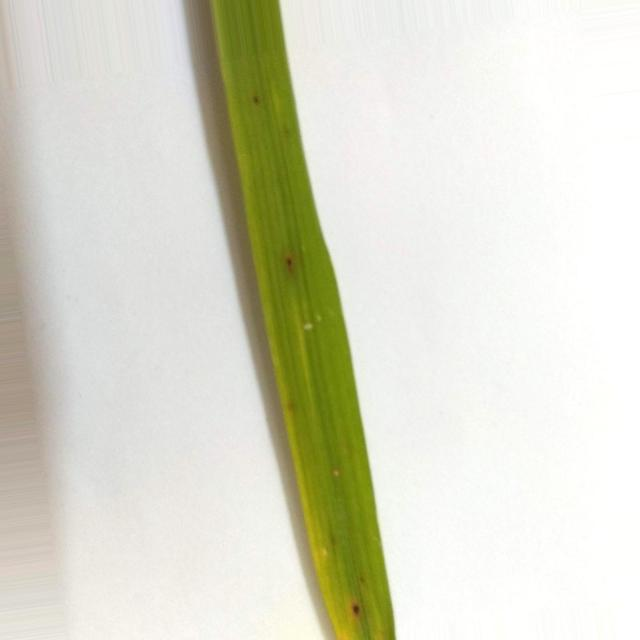Brown_Spot: (350, 599, 361, 620), (285, 252, 294, 274), (251, 95, 260, 105)
